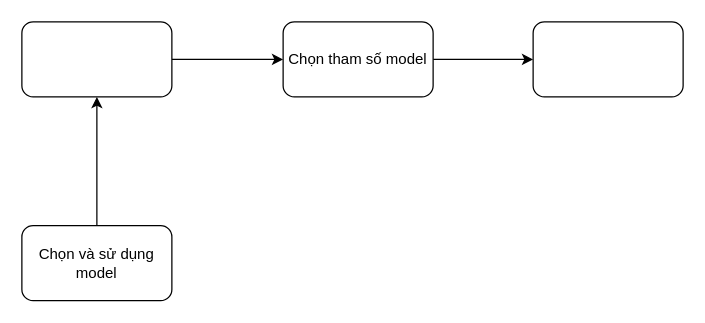
Image size: 705x323. Some labels were removed from this diagram. Here are the shapes that lost their labels. From the top down, the centre of each, then its label:
(96,59): Chọn Model
(607,59): Huấn luyện
